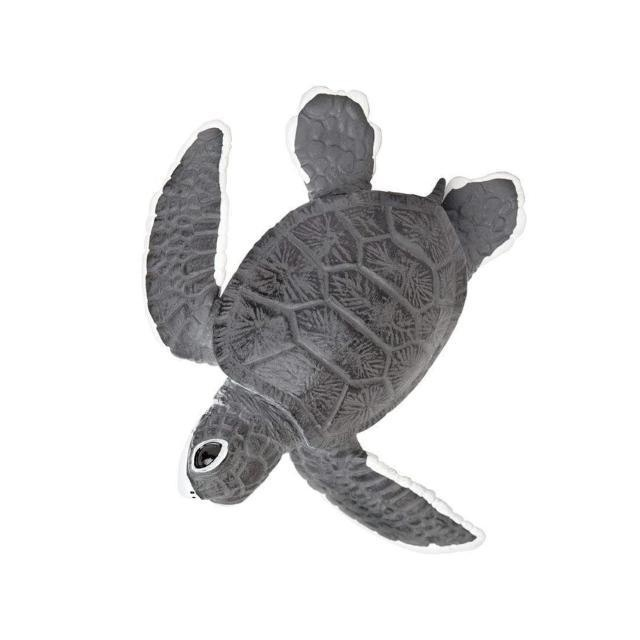turtle: (140, 83, 524, 552)
